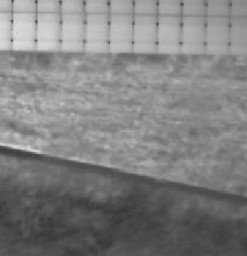solar: (9, 10, 38, 51), (34, 10, 63, 51), (58, 10, 87, 51), (82, 10, 111, 51), (106, 11, 135, 52), (131, 11, 160, 52), (156, 12, 185, 53), (179, 13, 208, 54), (203, 14, 232, 55)
